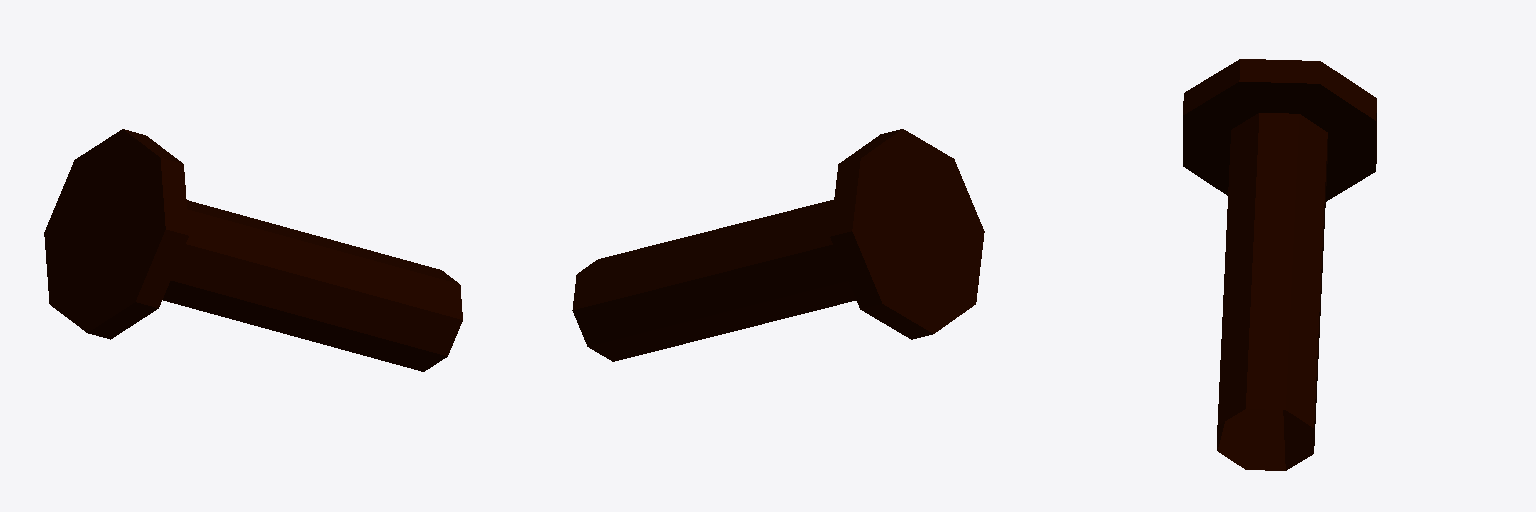
File: genericBolt.obj
The picture shows the model from 3 angles: view 1: azimuth 30°, elevation 25°; view 2: azimuth 150°, elevation 25°; view 3: azimuth 270°, elevation 25°; orthographic projection.
Visible parts, largest first — view 1: default; view 2: default; view 3: default.
Boxes of the visible parts, box(x1,y1,x2,y2) form: default: box(44, 129, 462, 371); default: box(572, 129, 984, 361); default: box(1183, 59, 1376, 470).
Size of the model in its own units: 0.106 by 0.0758 by 0.0474.